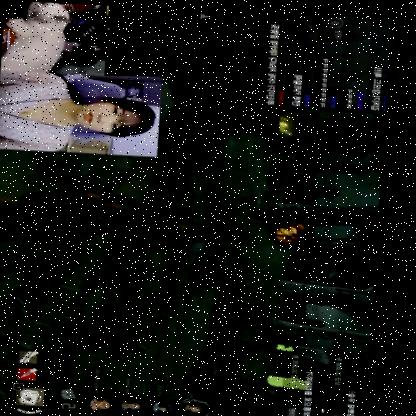streamer: (0, 70, 157, 155)
